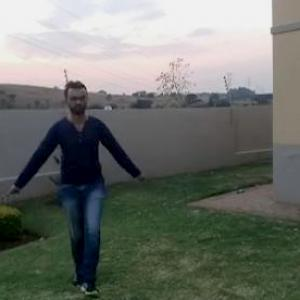land: (1, 59, 156, 299)
